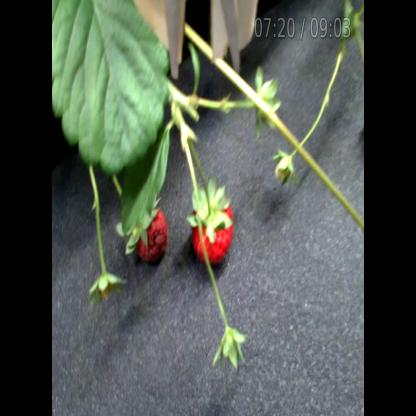ripe: (128, 202, 172, 274), (195, 197, 236, 270)
